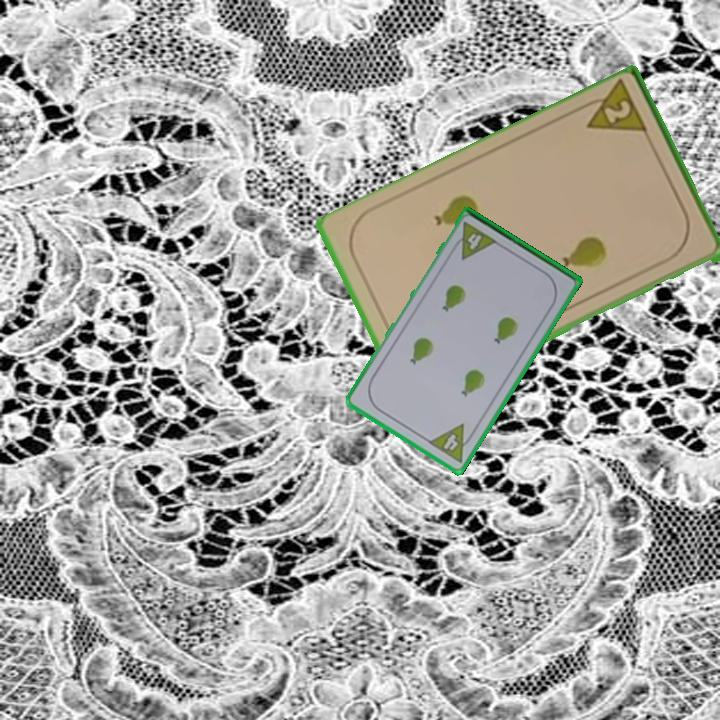2p: (574, 79, 651, 140)
4p: (425, 420, 478, 466), (448, 219, 500, 263)
